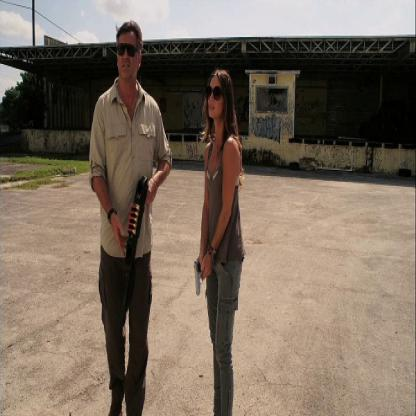Gun: (113, 172, 150, 313), (192, 256, 204, 295)
